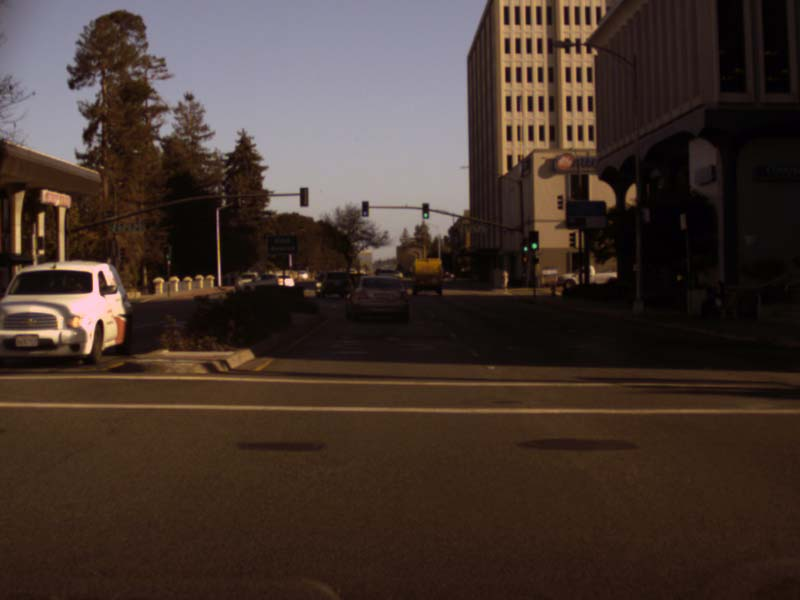Green: (529, 230, 537, 250), (164, 245, 171, 259), (422, 203, 428, 218), (521, 237, 527, 252), (362, 201, 368, 216)
